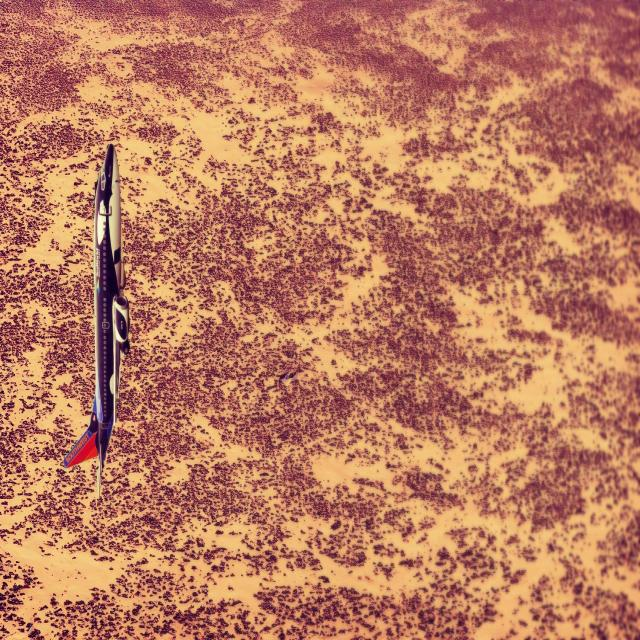airplane: (63, 142, 131, 499)
